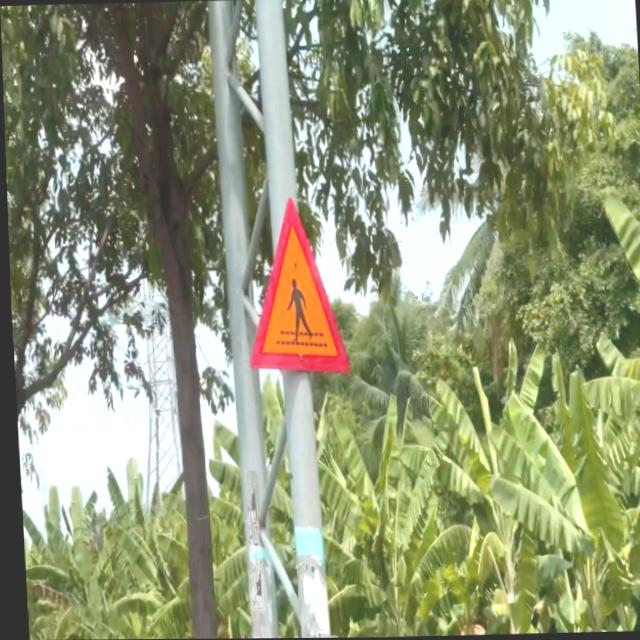Nguoi di bo cat ngang: (238, 193, 351, 377)
